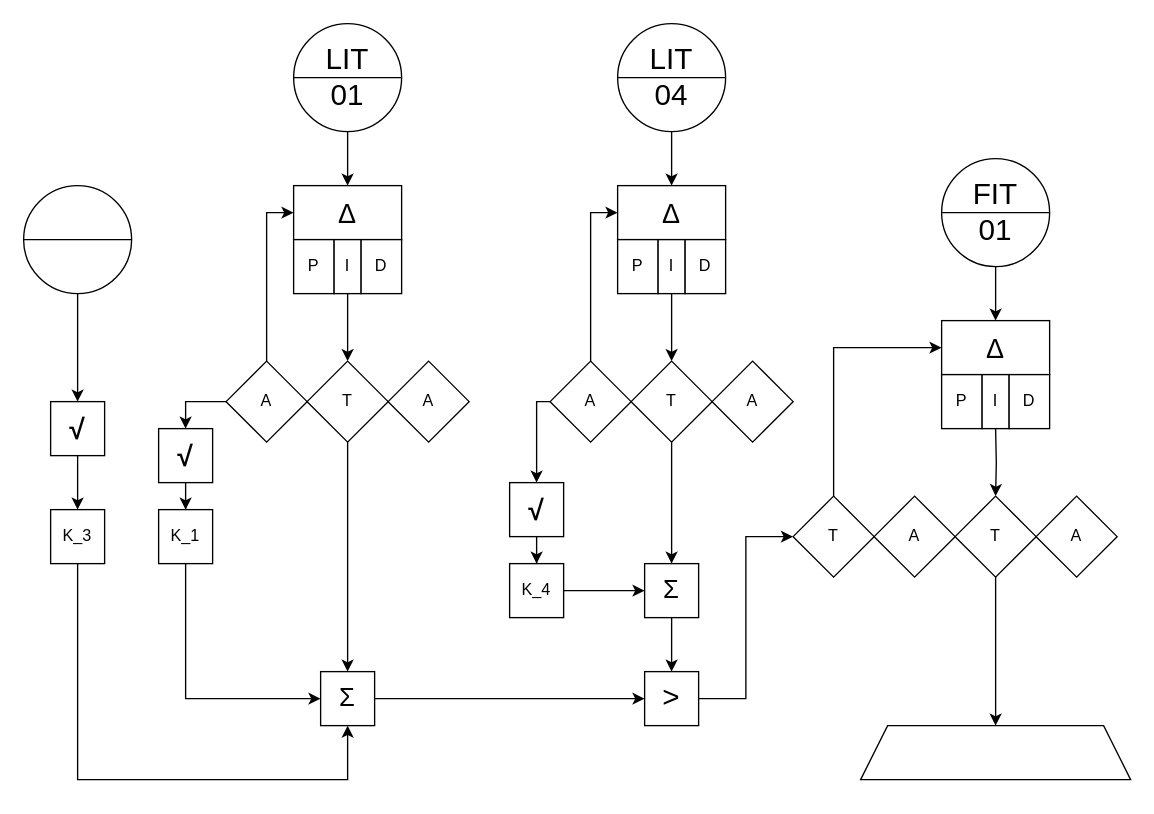
Image size: 1154x814. Some labels were removed from this diagram. The box of each missing label's shape, as (x1, y1, x2, y2) in pixels:
LIT 03: (22, 184, 132, 294)
sz 01: (859, 724, 1131, 780)
